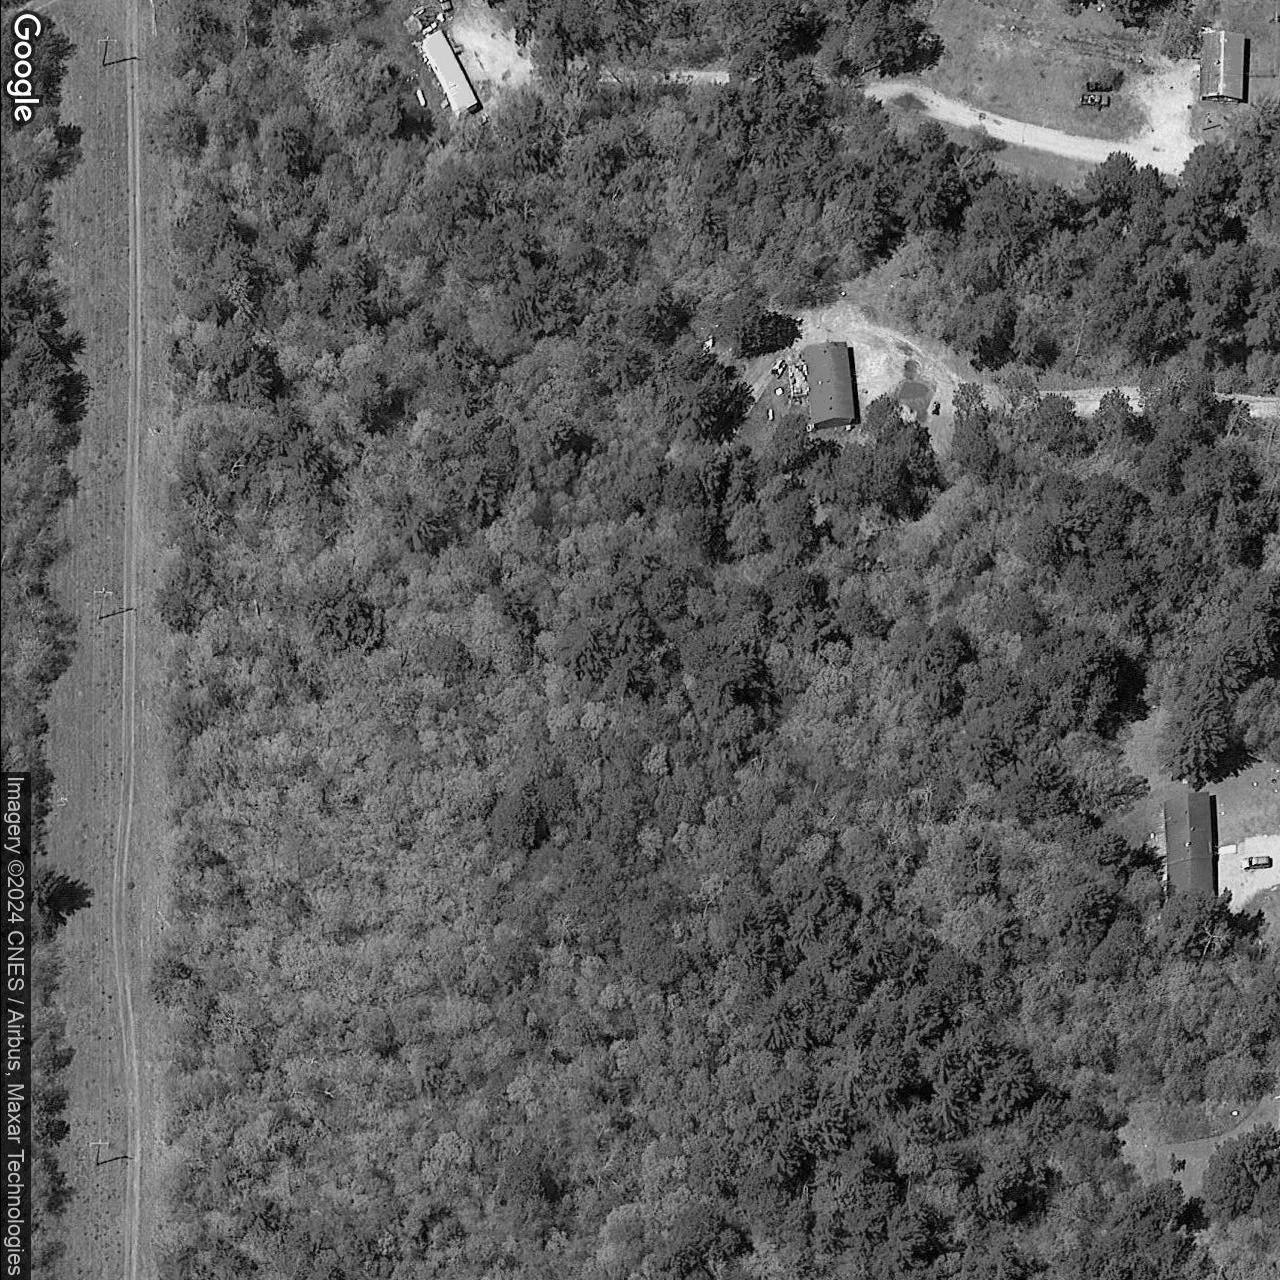House: (1160, 790, 1216, 906), (418, 28, 477, 120), (802, 340, 856, 430), (1197, 28, 1246, 103)
Propane: (411, 88, 429, 110)
